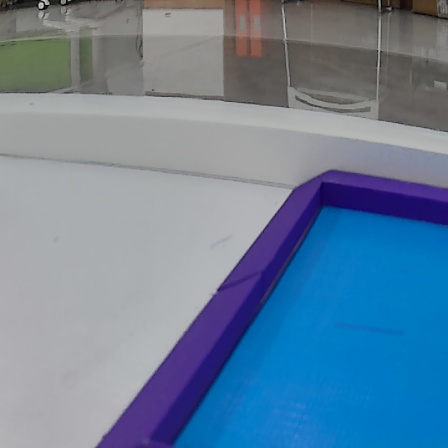blue_aim: (91, 171, 448, 448)
